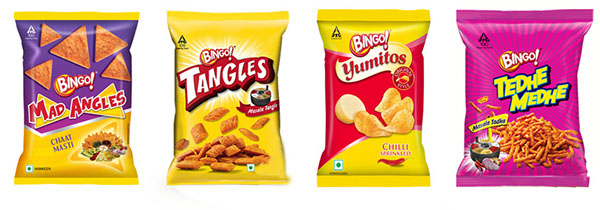VEG: (332, 156, 345, 172), (246, 163, 255, 171), (26, 163, 32, 174)
